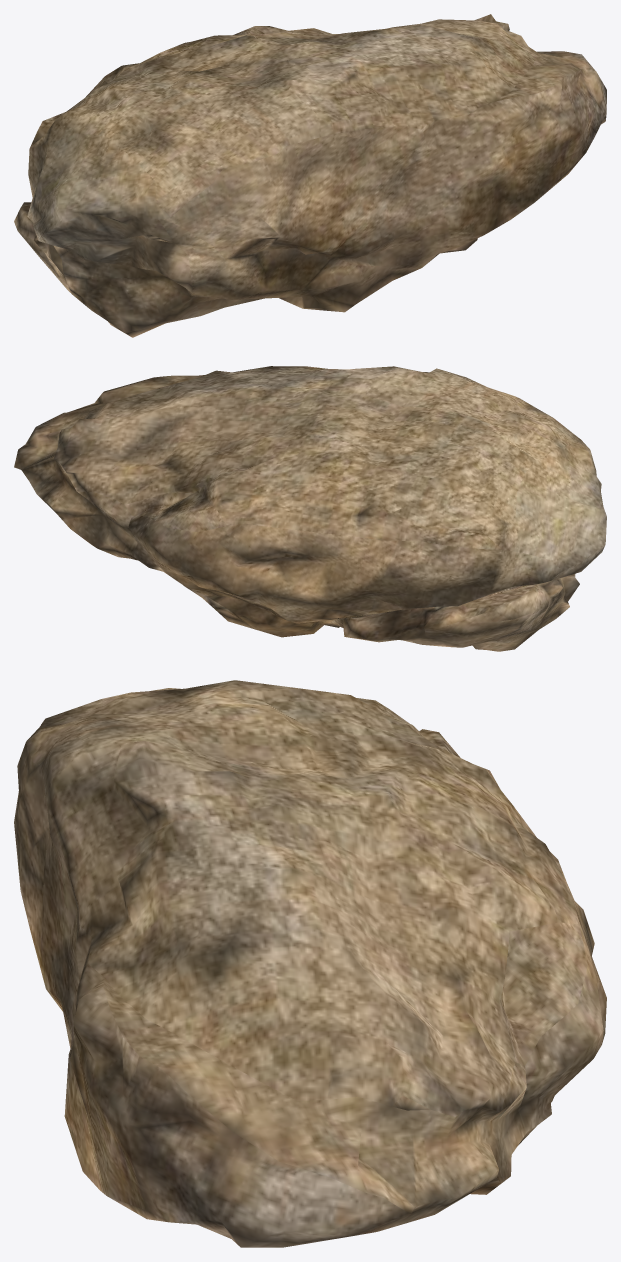
File: rock-slab-lod0.glb
3 renders of one model, top to bottom at view 1: azimuth 30°, elevation 25°; view 2: azimuth 150°, elevation 25°; view 3: azimuth 270°, elevation 25°, orthographic. The views are drawn at different scales.
Visible parts, largest first — view 1: namaqualand_boulder_05; view 2: namaqualand_boulder_05; view 3: namaqualand_boulder_05.
Part boxes in pixels (left/top/right/bottom): namaqualand_boulder_05: left=14, top=14, right=606, bottom=337; namaqualand_boulder_05: left=14, top=366, right=606, bottom=651; namaqualand_boulder_05: left=14, top=680, right=606, bottom=1247.
Size of the model in its own units: 1.36 by 0.5337 by 0.7462.
Materials: 1 (1 with a texture image).
